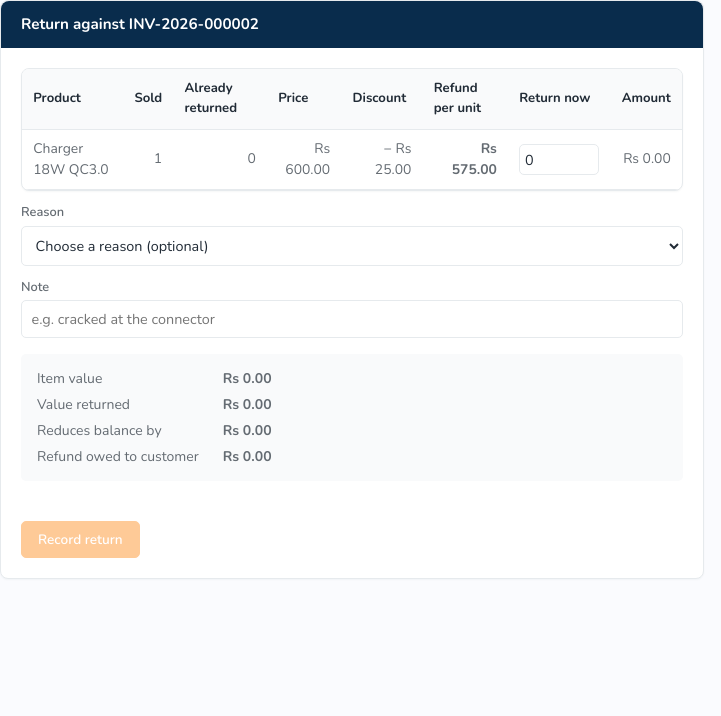
Scenario: SaleReturnForm on a discounted sale › refunds what was paid, not what was billed
Replace the text in the number field named "Return quantity for Charger 18W QC3.0" with "1". click: (559, 160)
box: [519, 144, 599, 175]
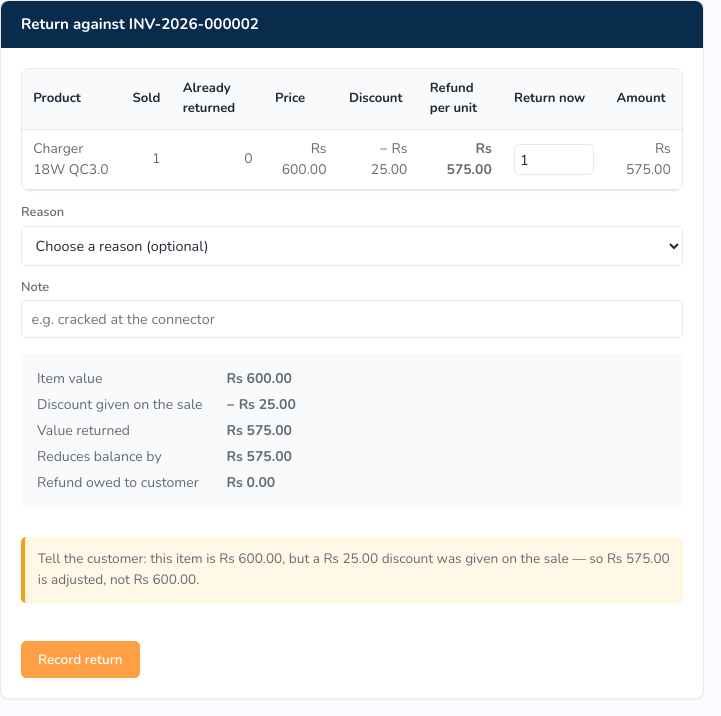
Result: the text with test id "return-total" reads "Rs 575.00" at [226, 421, 292, 440]
Result: the cell with test id "line-amount-21" reads "Rs 575.00" at [626, 139, 671, 179]
